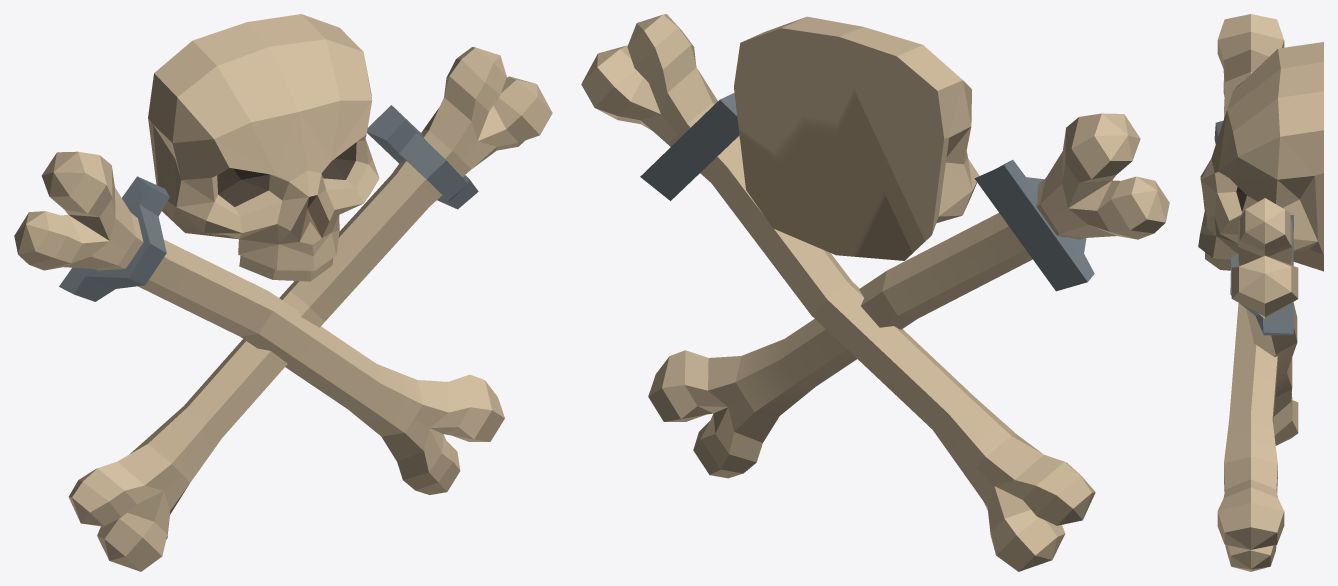
Rendered from SM_Prop_Greeble_02.fbx.
3 views of the same model, side by side, from view 1: azimuth 30°, elevation 25°; view 2: azimuth 150°, elevation 25°; view 3: azimuth 270°, elevation 25° (orthographic). The views are drawn at different scales.
Parts seen in each view (by area): view 1: SM_Prop_Greeble_02; view 2: SM_Prop_Greeble_02; view 3: SM_Prop_Greeble_02.
Boxes of the visible parts, x1,y1,x2,y2 form: SM_Prop_Greeble_02: (14, 14, 552, 571); SM_Prop_Greeble_02: (581, 14, 1169, 571); SM_Prop_Greeble_02: (1198, 14, 1323, 571).
Size of the model in its own units: 67.83 by 59.12 by 14.84.
